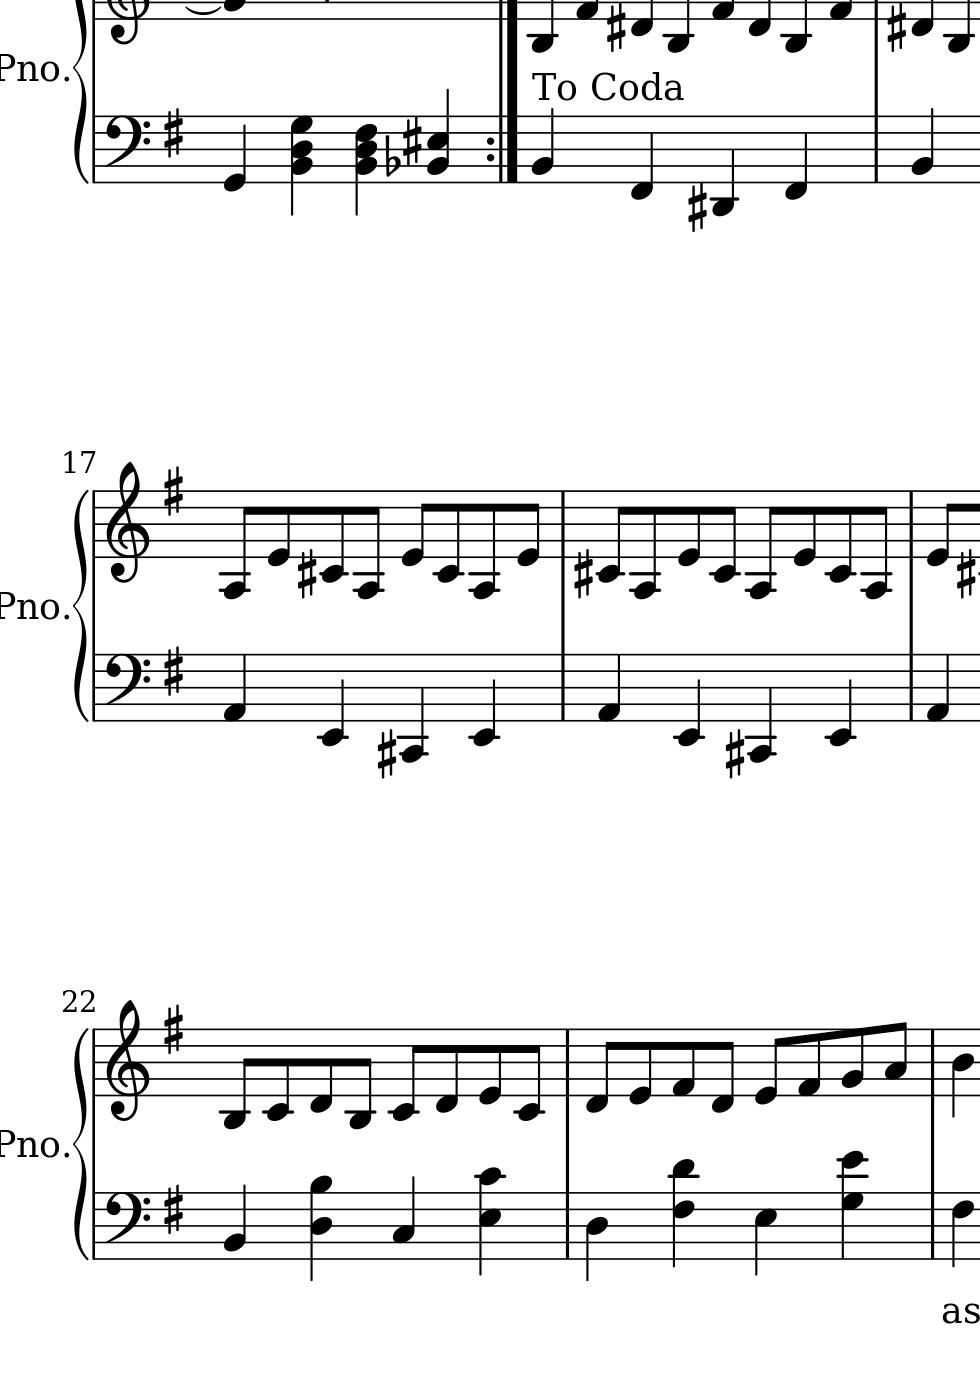1: (62, 449, 76, 477)
2: (77, 987, 97, 1014), (60, 988, 78, 1014)
4_-1: (627, 113, 655, 201), (782, 113, 809, 203)
4_-2: (317, 652, 347, 749), (469, 652, 498, 749), (673, 651, 703, 748), (825, 650, 854, 749)
4_-3: (710, 111, 738, 220)
4_-4: (398, 650, 428, 764), (746, 650, 776, 764)
4_0: (222, 113, 247, 194)
4_1: (220, 653, 248, 724), (925, 653, 952, 724), (595, 653, 622, 724)
4_2: (909, 105, 937, 185), (222, 1183, 248, 1261), (530, 106, 556, 186)
4_3: (391, 1175, 416, 1261)
4_4: (950, 1027, 975, 1119), (584, 1191, 608, 1282)
4_4_9: (307, 1174, 333, 1280)
4_5: (752, 1191, 777, 1278)
4_5_10: (476, 1166, 506, 1277)
4_6: (950, 1191, 976, 1268)
4_6_11: (669, 1157, 698, 1269)
4_7_12: (837, 1150, 870, 1262)
4_th: (286, 113, 316, 215), (350, 115, 378, 217)
7: (78, 448, 97, 476)
8_-1: (583, 1027, 617, 1115), (708, 1027, 737, 1116), (307, 1027, 334, 1115), (433, 1027, 460, 1115)
8_-2: (387, 1027, 423, 1122), (596, 489, 628, 584), (432, 490, 463, 584), (261, 1027, 292, 1124), (708, 489, 739, 584), (514, 1027, 545, 1122), (825, 489, 854, 584), (319, 488, 347, 583)
8_-3: (218, 1027, 256, 1131), (345, 1027, 375, 1133)
8_-4: (218, 487, 255, 600), (743, 488, 780, 600), (352, 487, 384, 601), (468, 488, 498, 601), (630, 488, 660, 600), (861, 487, 890, 601)
8_0: (752, 1027, 784, 1108), (925, 489, 957, 568), (399, 488, 430, 568), (675, 489, 702, 568), (627, 1027, 653, 1107), (266, 488, 292, 569), (515, 489, 541, 569), (792, 488, 818, 568), (477, 1027, 503, 1106)
8_1: (669, 1027, 696, 1098), (795, 1027, 822, 1098)
8_2: (839, 1027, 865, 1096)
8_3: (882, 1020, 907, 1096)
Brace: (70, 489, 92, 721), (74, 1024, 90, 1262), (70, 1, 90, 182)
Fclef: (102, 1190, 152, 1261), (102, 115, 152, 185), (102, 652, 151, 723)
Gclef: (103, 460, 151, 585), (104, 998, 150, 1122)
Pno: (1, 1125, 59, 1163), (1, 50, 59, 87), (1, 587, 59, 625)
RightRepeatSign: (483, 115, 521, 183)
Sharp: (159, 106, 187, 162), (159, 464, 186, 520), (160, 1182, 186, 1236), (399, 115, 423, 171), (160, 644, 185, 700), (160, 1003, 185, 1058), (685, 181, 708, 233), (885, 2, 907, 54), (295, 548, 317, 600), (571, 548, 593, 600), (605, 4, 627, 56), (723, 729, 743, 779), (375, 729, 395, 779), (957, 548, 975, 600)
Single_barline: (558, 1029, 576, 1096), (553, 491, 571, 558), (558, 1193, 576, 1259), (902, 490, 918, 559), (867, 116, 883, 182), (554, 655, 571, 721), (924, 1193, 941, 1259), (925, 1029, 941, 1096), (903, 654, 918, 721), (88, 116, 102, 182), (88, 1192, 101, 1260), (88, 1030, 101, 1096), (88, 492, 101, 558), (89, 655, 102, 721)
Slur: (183, 4, 223, 17)
